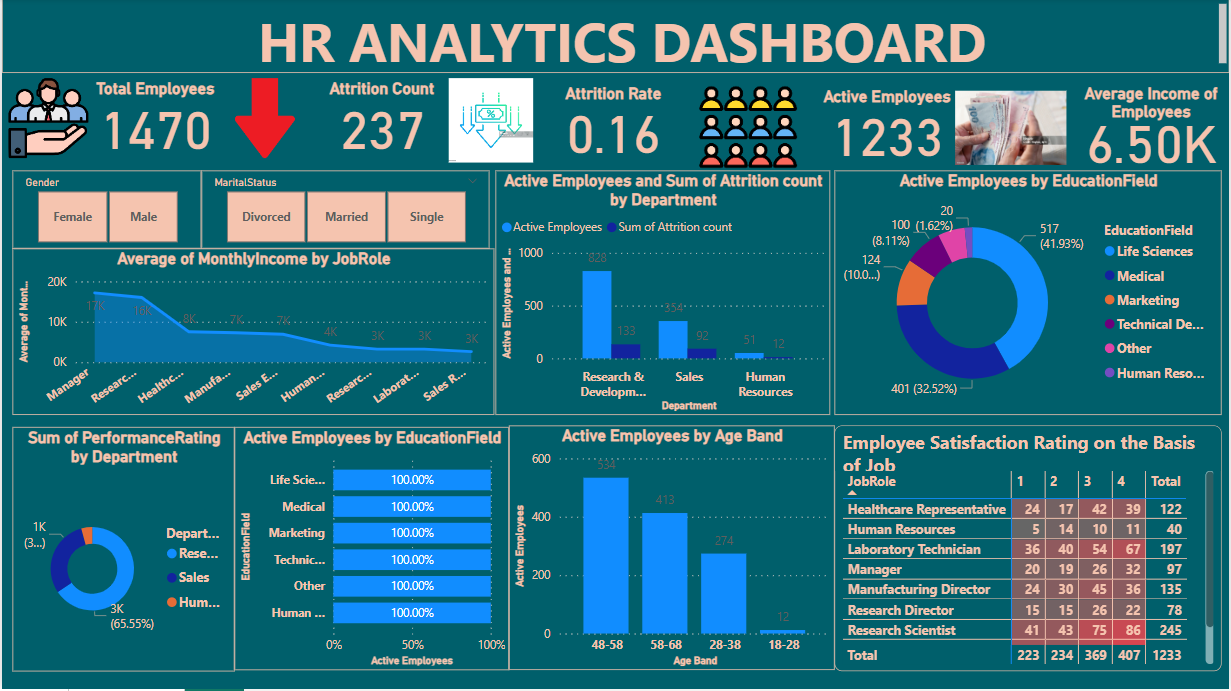

Layout of this report page (visuals, bound fields, positions):
{"tool":"powerbi","page":{"name":"Page 2","canvas":[1280,720],"ordinal":1},"visuals":[{"type":"card","title":"Total Employees","fields":{"Values":["Sum(HR Employee Data.EmployeeCount)"]},"box":[76.6,84.4,166.3,94.5],"z":0,"group":"g1"},{"type":"clusteredColumnChart","fields":{"Category":["HR Employee Data.Department"],"Y":["HR Employee Data.Active Employees","Sum(HR Employee Data.Attrition count)"]},"box":[514.2,179.7,348.5,254.8],"z":0},{"type":"card","title":"Attrition Count","fields":{"Values":["Sum(HR Employee Data.Attrition count)"]},"box":[312.8,84.4,166.3,94.5],"z":1000,"group":"g1"},{"type":"donutChart","fields":{"Y":["HR Employee Data.Active Employees"],"Category":["HR Employee Data.EducationField"]},"box":[867.5,179.7,403.3,254.8],"z":1000},{"type":"card","title":"Attrition Rate","fields":{"Values":["HR Employee Data.Attrition Rate"]},"box":[553.3,89.3,167.2,93.8],"z":2000,"group":"g1"},{"type":"columnChart","fields":{"Category":["HR Employee Data.Age Band"],"Y":["HR Employee Data.Active Employees"]},"box":[528.3,445.5,339.2,254.8],"z":2000},{"type":"card","title":"Average Income of Employees","fields":{"Values":["Avg(HR Employee Data.MonthlyIncome)"]},"box":[1113.8,89,165.7,95.3],"z":3000,"group":"g1"},{"type":"pivotTable","title":"Employee Satisfaction Rating  on the Basis of Job Role","fields":{"Rows":["HR Employee Data.JobRole"],"Columns":["HR Employee Data.JobSatisfaction"],"Values":["HR Employee Data.Active Employees"]},"box":[867.5,445.5,403.3,256.3],"z":3000},{"type":"card","title":"Active Employees","fields":{"Values":["HR Employee Data.Active Employees"]},"box":[838.7,92,165.7,93.8],"z":4000,"group":"g1"},{"type":"donutChart","fields":{"Category":["HR Employee Data.Department"],"Y":["Sum(HR Employee Data.PerformanceRating)"]},"box":[10.9,447,231.3,254.8],"z":4000},{"type":"hundredPercentStackedBarChart","fields":{"Y":["HR Employee Data.Active Employees"],"Category":["HR Employee Data.EducationField"]},"box":[242.3,447,286,253.2],"z":5000},{"type":"areaChart","fields":{"Category":["HR Employee Data.JobRole"],"Y":["Avg(HR Employee Data.MonthlyIncome)"]},"box":[10.9,261,501.7,173.5],"z":6000},{"type":"slicer","fields":{"Values":["HR Employee Data.Gender"]},"box":[10.9,179.7,196.9,81.3],"z":7000},{"type":"slicer","fields":{"Values":["HR Employee Data.MaritalStatus"]},"box":[207.9,179.7,300.1,81.3],"z":8000},{"type":"group","id":"g1","title":"Group 1","box":[76.6,84.4,1203.5,101.6],"z":9000},{"type":"image","box":[711.2,78.1,132.9,112.5],"z":10000},{"type":"image","box":[987.8,81.3,126.6,107.8],"z":11000},{"type":"image","box":[450.1,78.1,118.8,98.5],"z":12000},{"type":"image","box":[0,78.1,96.9,93.8],"z":13000},{"type":"image","box":[223.5,78.1,100,93.8],"z":14000},{"type":"textbox","box":[0,0,1280.1,78.1],"z":15000}]}

Visuals, with their boxes in screenshot pixels (x1, y1, x2, y2), scaled from the page's 1280x720 canvas onto the 1231x691 screenshot:
"Total Employees" card: 74 81 234 172
clusteredColumnChart - HR Employee Data.Department x HR Employee Data.Active Employees: 495 172 830 417
"Attrition Count" card: 301 81 461 172
donutChart - HR Employee Data.Active Employees x HR Employee Data.EducationField: 834 172 1222 417
"Attrition Rate" card: 532 86 693 176
columnChart - HR Employee Data.Age Band x HR Employee Data.Active Employees: 508 428 834 672
"Average Income of Employees" card: 1071 85 1230 177
"Employee Satisfaction Rating  on the Basis of Job Role" pivotTable: 834 428 1222 674
"Active Employees" card: 807 88 966 178
donutChart - HR Employee Data.Department x Sum(HR Employee Data.PerformanceRating): 10 429 233 674
hundredPercentStackedBarChart - HR Employee Data.Active Employees x HR Employee Data.EducationField: 233 429 508 672
areaChart - HR Employee Data.JobRole x Avg(HR Employee Data.MonthlyIncome): 10 250 493 417
slicer - HR Employee Data.Gender: 10 172 200 250
slicer - HR Employee Data.MaritalStatus: 200 172 489 250
"Group 1" group: 74 81 1230 179
image: 684 75 812 183
image: 950 78 1072 181
image: 433 75 547 169
image: 0 75 93 165
image: 215 75 311 165
textbox: 0 0 1230 75
